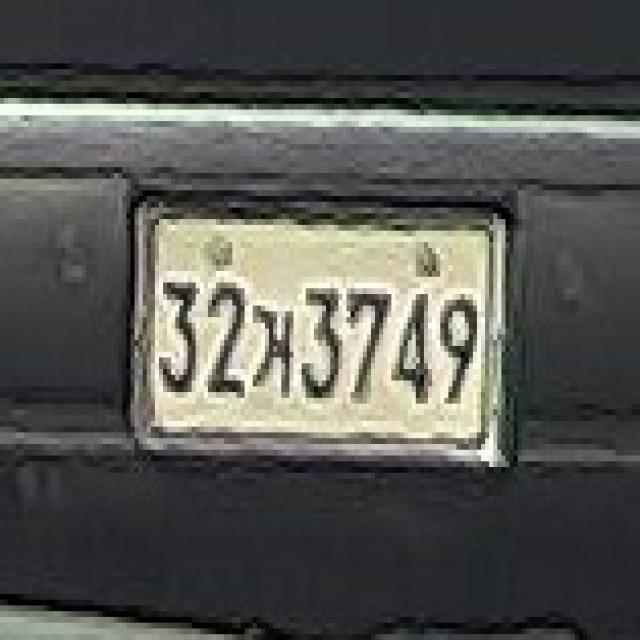2: (208, 276, 249, 404)
3: (155, 277, 200, 398), (302, 282, 342, 403)
4: (392, 288, 436, 409)
7: (346, 282, 392, 403)
9: (436, 294, 481, 409)
geo: (248, 300, 294, 398)
license_plate: (143, 208, 497, 450)
